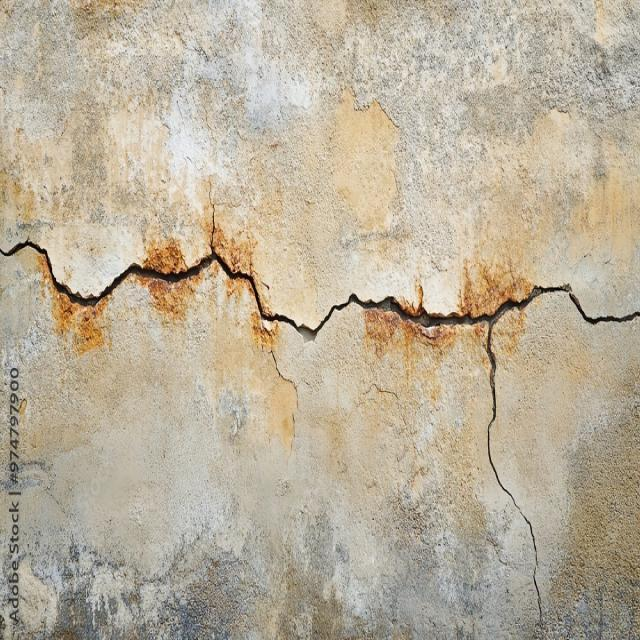crack: (14, 1, 638, 149), (6, 226, 640, 337), (212, 228, 311, 333), (37, 250, 217, 304), (261, 331, 305, 454), (6, 368, 25, 624), (205, 194, 238, 321), (207, 196, 223, 266), (2, 238, 47, 261)
dampens: (1, 1, 640, 640)
